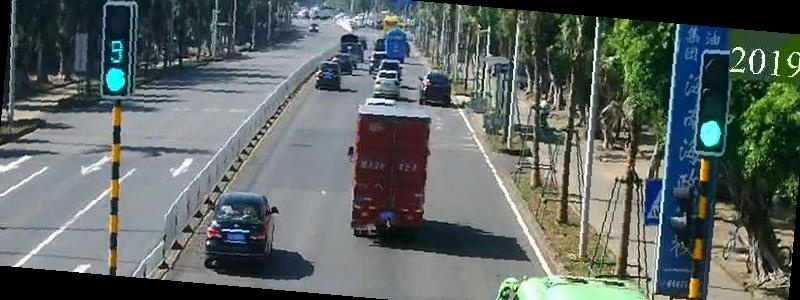green: (96, 65, 136, 99), (699, 117, 734, 155)
greentime: (94, 36, 135, 64)
